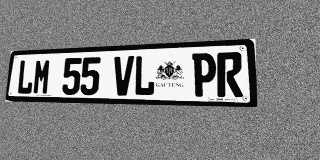5: (80, 57, 101, 95), (62, 58, 82, 95)
L: (133, 55, 156, 96), (16, 59, 35, 94)
M: (32, 59, 51, 95)
P: (192, 53, 216, 97)
R: (217, 52, 243, 97)
V: (112, 56, 134, 96)
